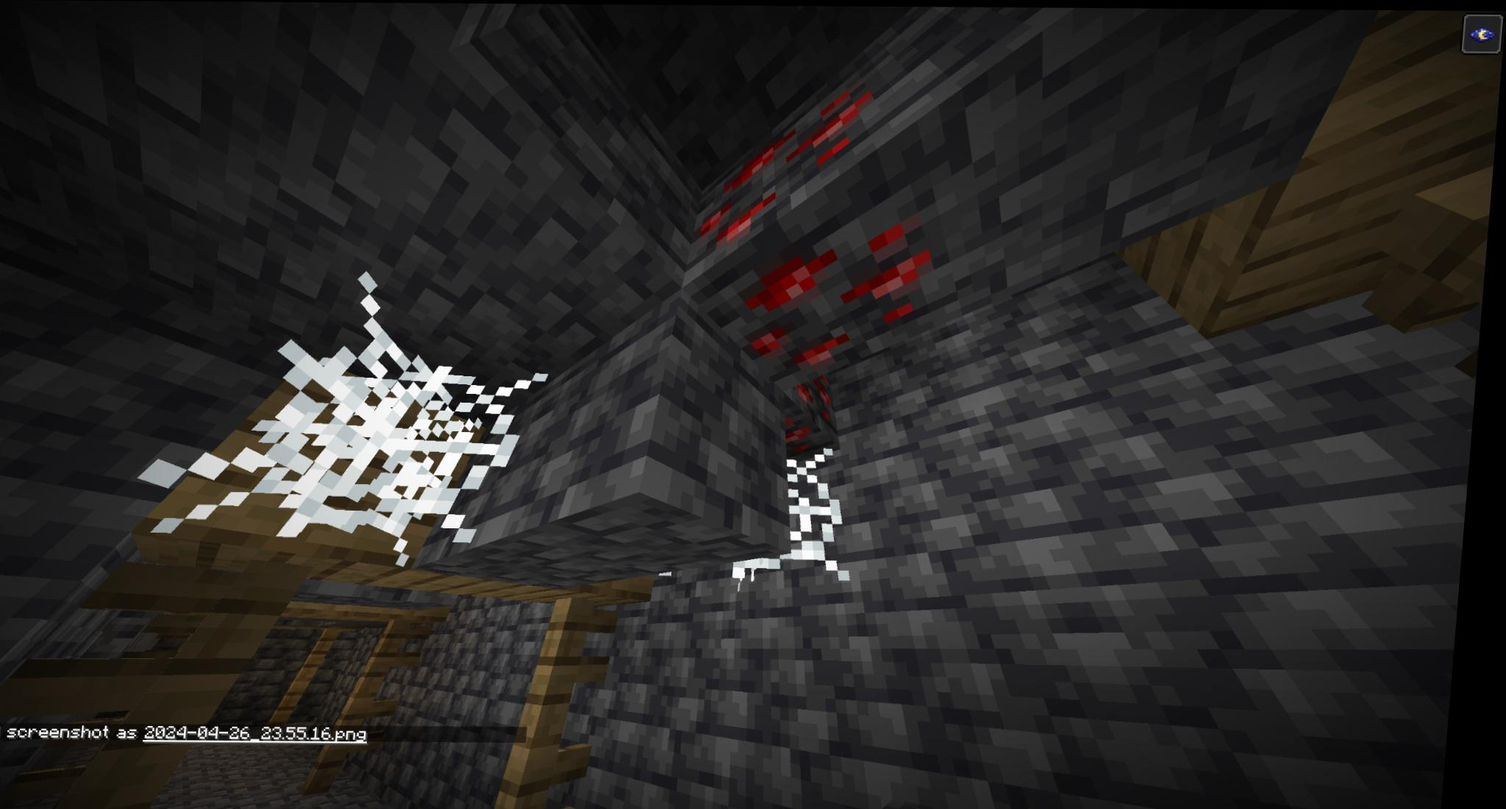redstone ore: (727, 195, 935, 347), (707, 87, 864, 247), (777, 374, 850, 456)
